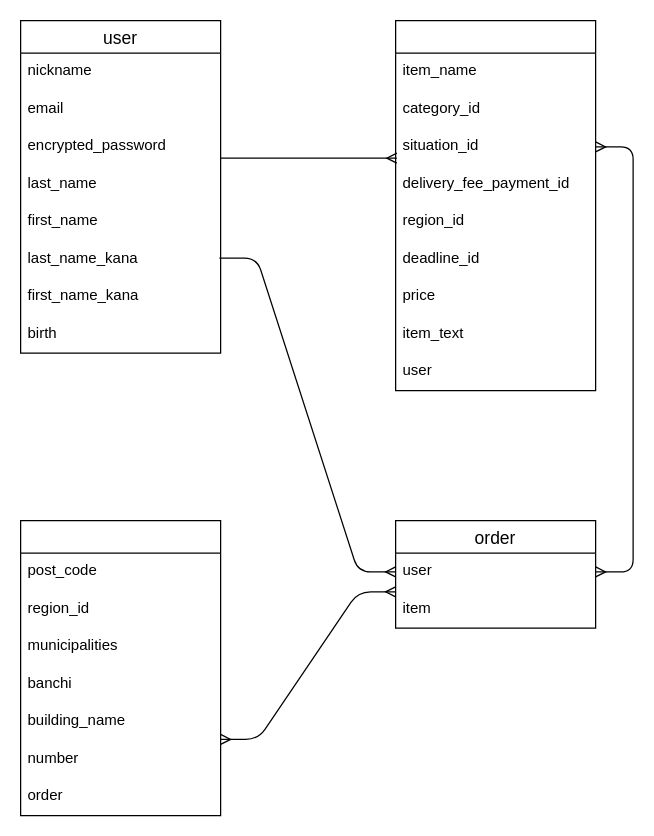
Some shapes in this 654 by 836 pixel diagram are drawn without their labels. The box of each missing label's shape, as (x1, y1, x2, y2) in pixels:
addresses: (19, 519, 221, 816)
items: (394, 19, 596, 391)
